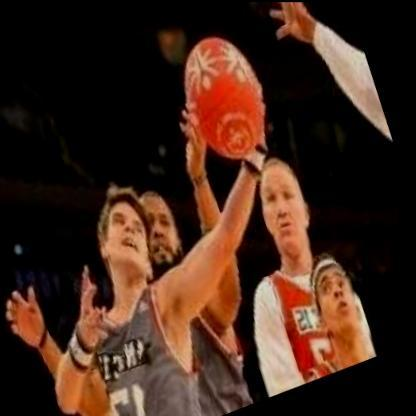basketball: (165, 30, 287, 169)
